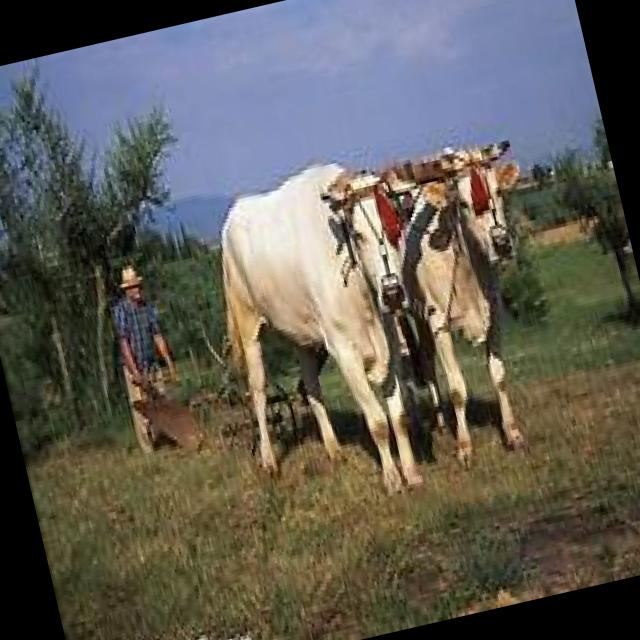animal: (170, 142, 468, 528), (374, 129, 582, 472)
